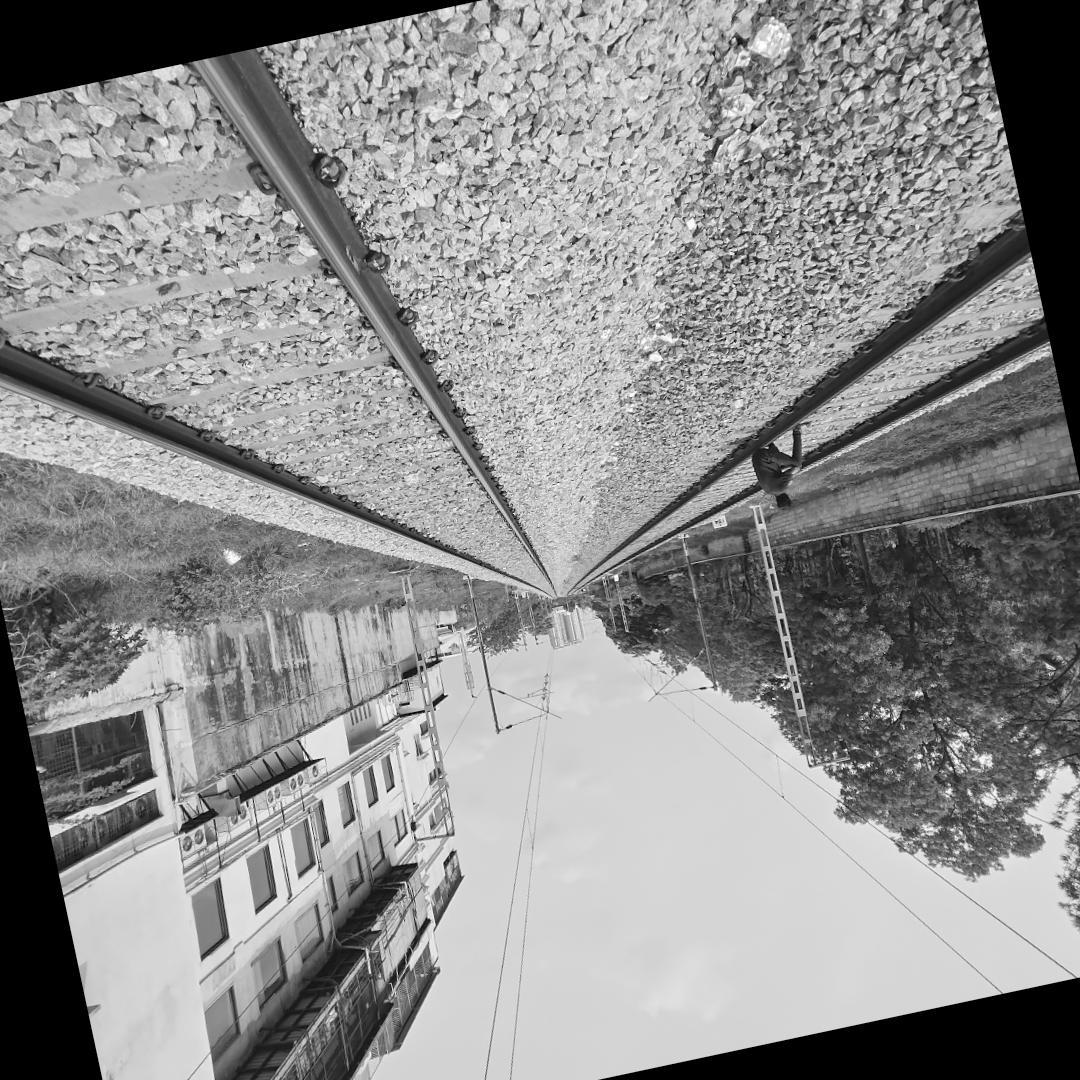sitting: (740, 413, 821, 512)
track: (560, 186, 1055, 609)
